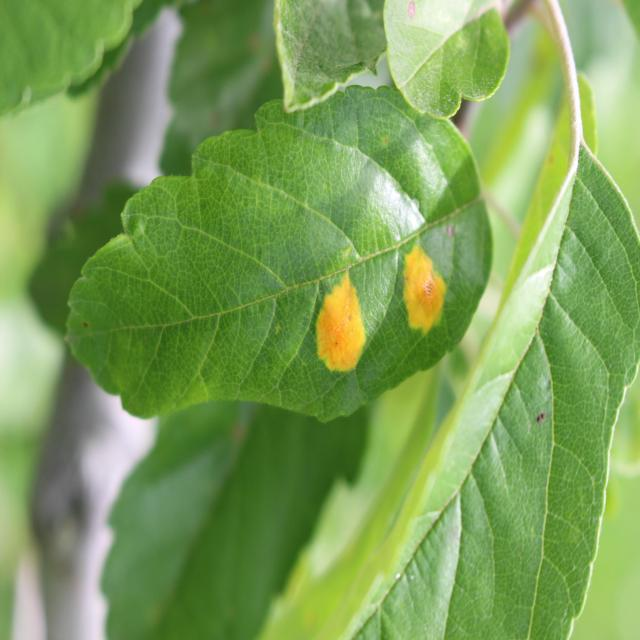Rust: (313, 267, 370, 389), (397, 237, 449, 354)
